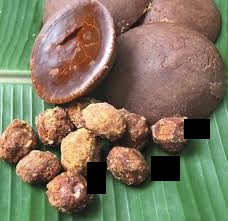hakuru: (105, 24, 224, 129), (29, 0, 116, 105)
